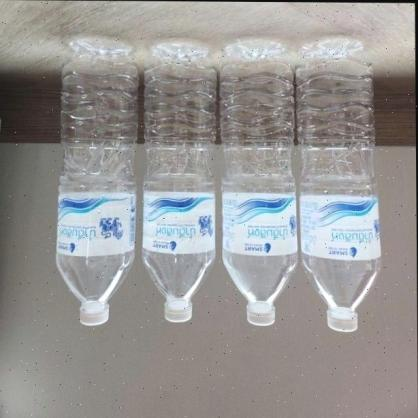bottle: (297, 34, 384, 330), (53, 38, 142, 327), (218, 37, 300, 326), (142, 38, 218, 326)
cap: (326, 309, 360, 330), (162, 300, 194, 322), (246, 304, 279, 325), (78, 304, 111, 325)
label: (301, 186, 382, 260), (57, 187, 136, 253), (222, 186, 294, 256), (146, 187, 216, 252)
